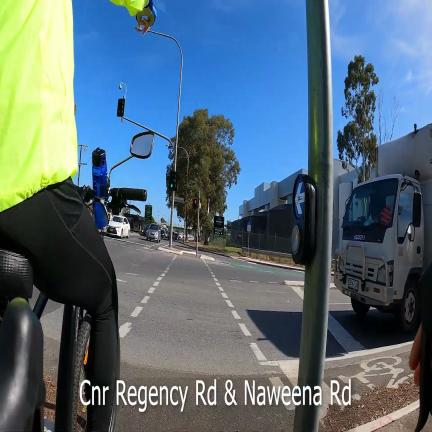Green_Bike_Lane: (222, 262, 279, 272), (280, 270, 295, 272)
